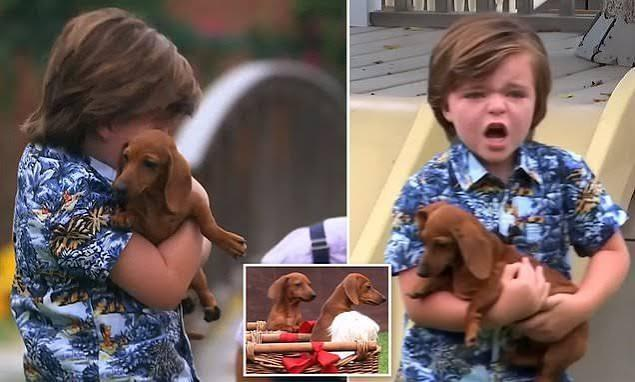adult_dog: (325, 272, 386, 328), (264, 271, 314, 323)
puppy-dog: (397, 203, 589, 379), (111, 127, 248, 326)
